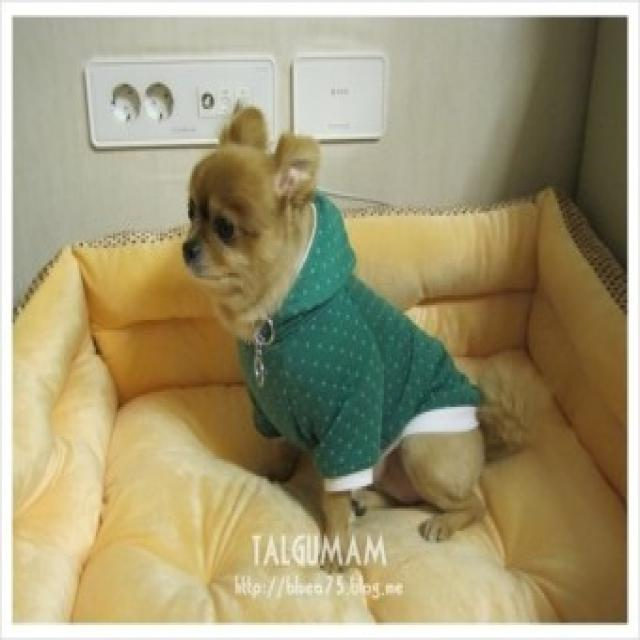cloth: (240, 194, 479, 491)
